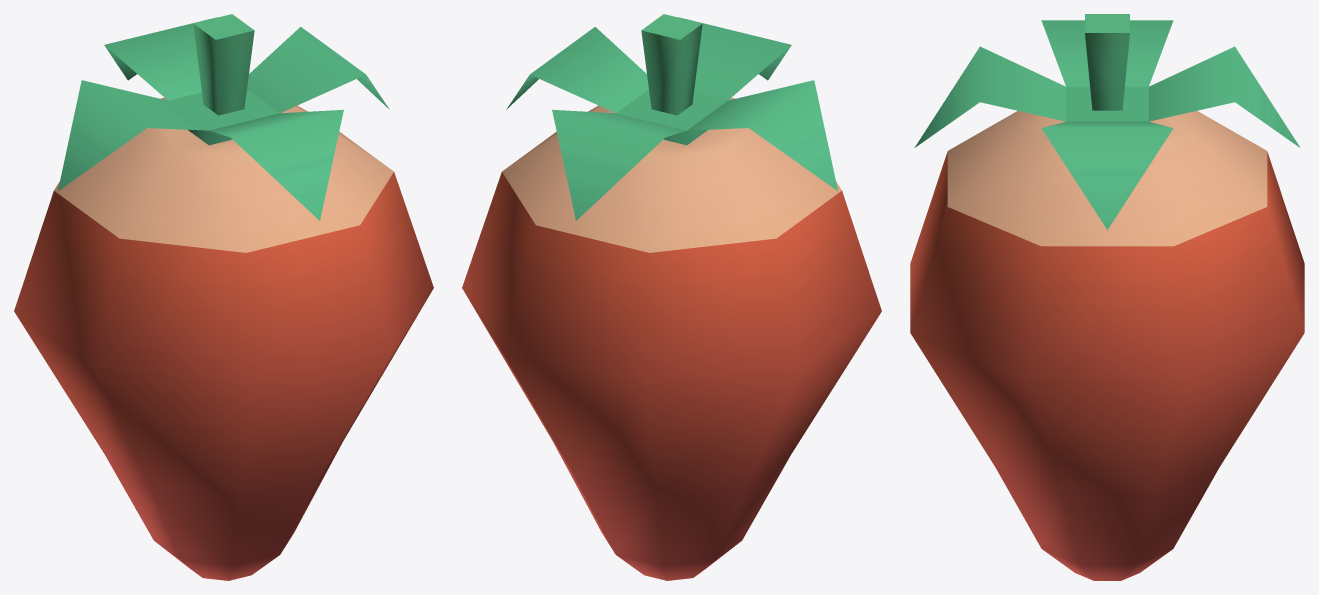
Rendered from strawberry.glb.
3 renders of one model, left to right at view 1: azimuth 30°, elevation 25°; view 2: azimuth 150°, elevation 25°; view 3: azimuth 270°, elevation 25°, orthographic.
Parts seen in each view (by area): view 1: strawberry; view 2: strawberry; view 3: strawberry.
Boxes of the visible parts, x1,y1,x2,y2 form: strawberry: (14,14,433,580); strawberry: (462,14,881,580); strawberry: (910,14,1304,580).
Bounding box in the file's own units: 0.1197 × 0.182 × 0.1197.
1 material, 1 textured.
